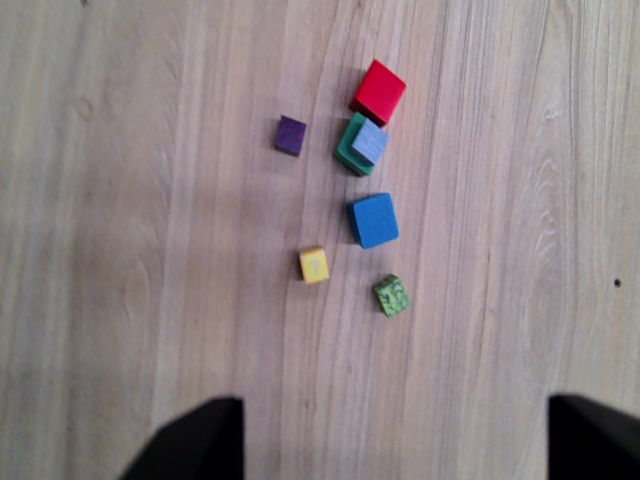brick: (275, 112, 308, 155)
grass: (373, 270, 410, 321)
lucky: (296, 245, 332, 286)
stone: (350, 118, 389, 166)
